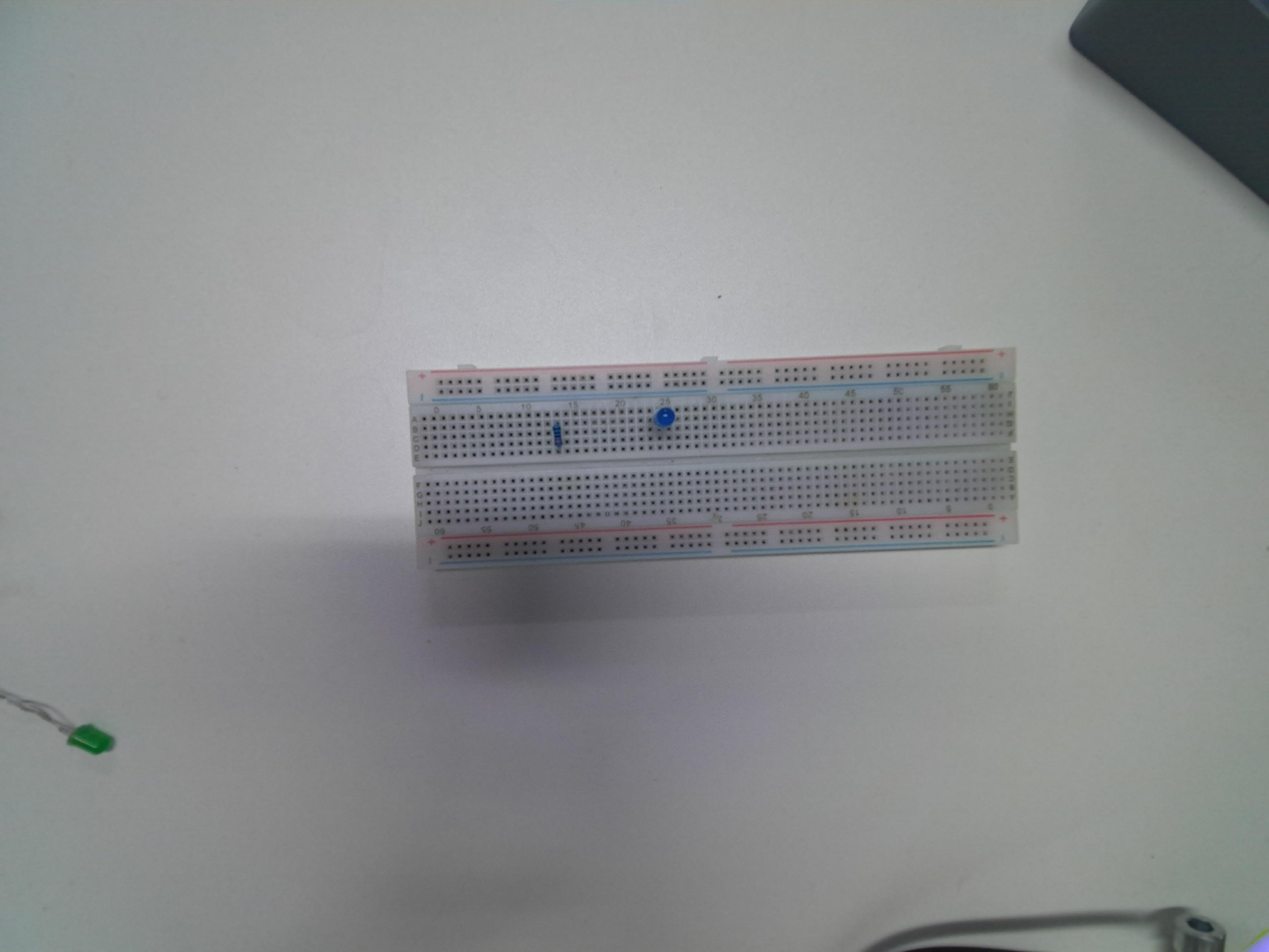base: (408, 347, 1021, 573)
blue-led: (653, 404, 681, 434)
green-led: (65, 718, 117, 760)
resistor-small: (550, 421, 567, 451)
